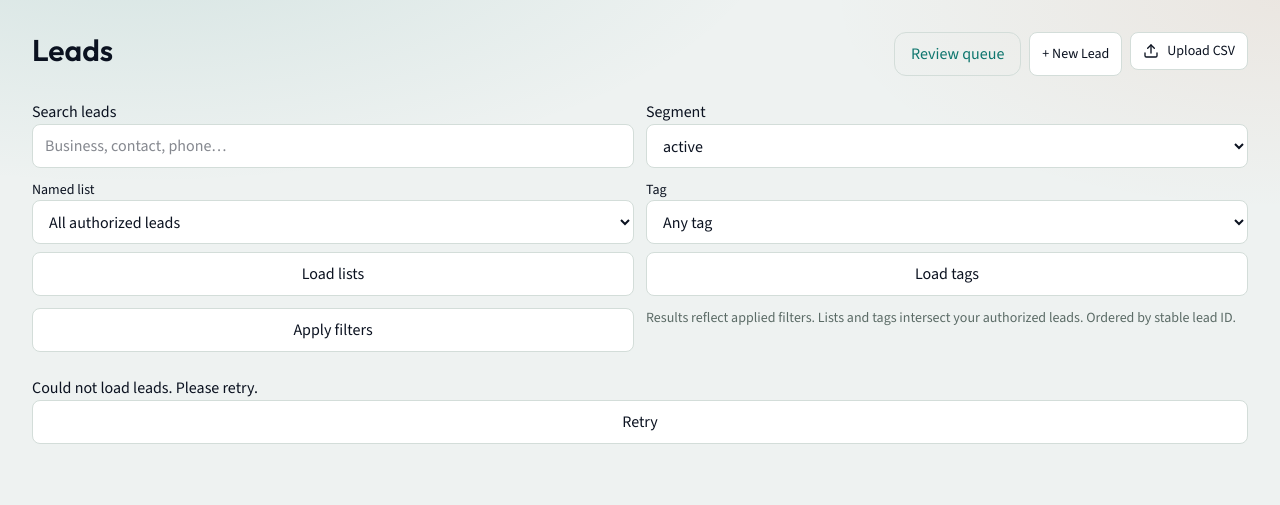
Test case: renders safe load errors with retry and never mislabels failure as empty
This screenshot has width=1280, height=505.
Expected: the message "Could not load leads. Please retry. Retry" is shown, left=32, top=376, right=1248, bottom=444
Expected: the text "No leads in this view" is not shown
Click the button "Retry": (640, 422) left=32, top=400, right=1248, bottom=444
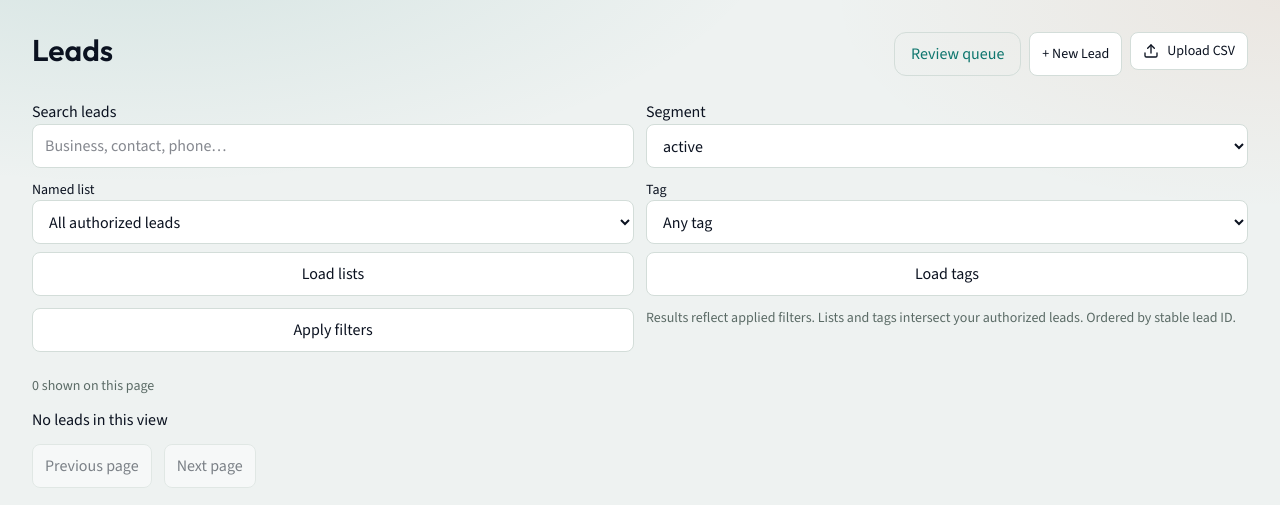
Now the text "No leads in this view" is shown, box left=32, top=409, right=168, bottom=430
